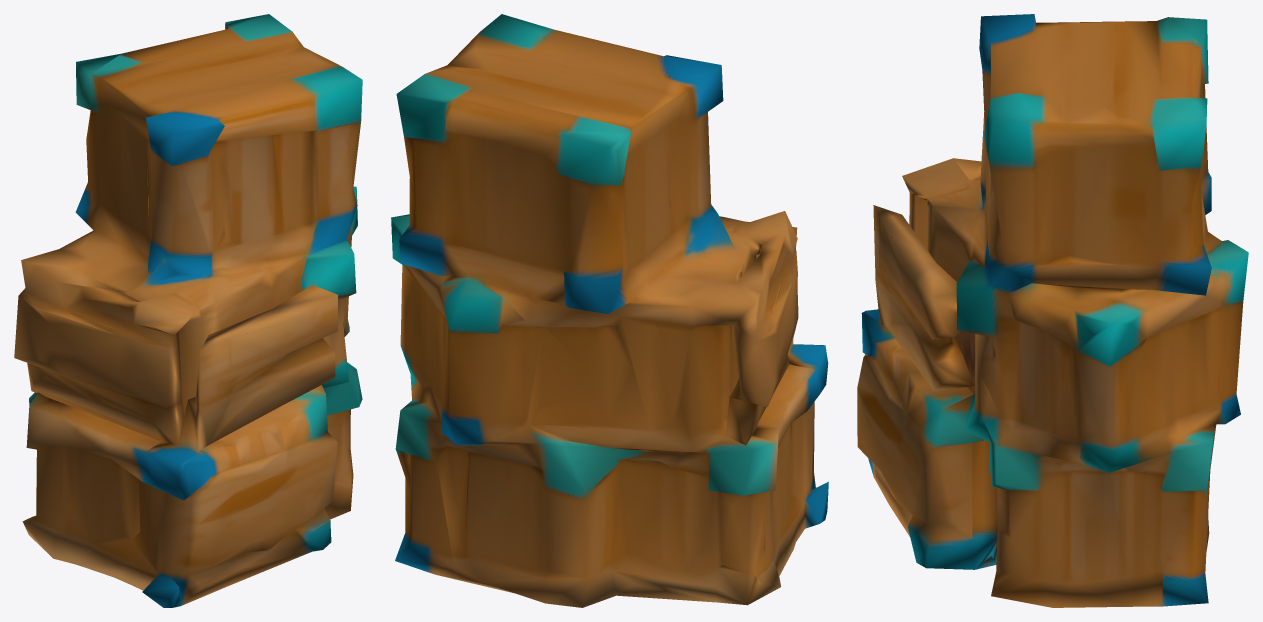
Rendered from textures.glb.
The picture shows the model from 3 angles, left to right: view 1: azimuth 30°, elevation 25°; view 2: azimuth 150°, elevation 25°; view 3: azimuth 270°, elevation 25°; orthographic projection. The views are drawn at different scales.
Visible parts, largest first — view 1: tripo_node_c96c7072-6076-46e6-ba65-f5824728c30a; view 2: tripo_node_c96c7072-6076-46e6-ba65-f5824728c30a; view 3: tripo_node_c96c7072-6076-46e6-ba65-f5824728c30a.
Part boxes in pixels (x1,y1,x2,y2): tripo_node_c96c7072-6076-46e6-ba65-f5824728c30a: (14,14,362,607); tripo_node_c96c7072-6076-46e6-ba65-f5824728c30a: (391,14,828,607); tripo_node_c96c7072-6076-46e6-ba65-f5824728c30a: (857,14,1248,607).
Size of the model in its own units: 0.8238 by 1 by 0.7228.
1 material, 1 textured.
